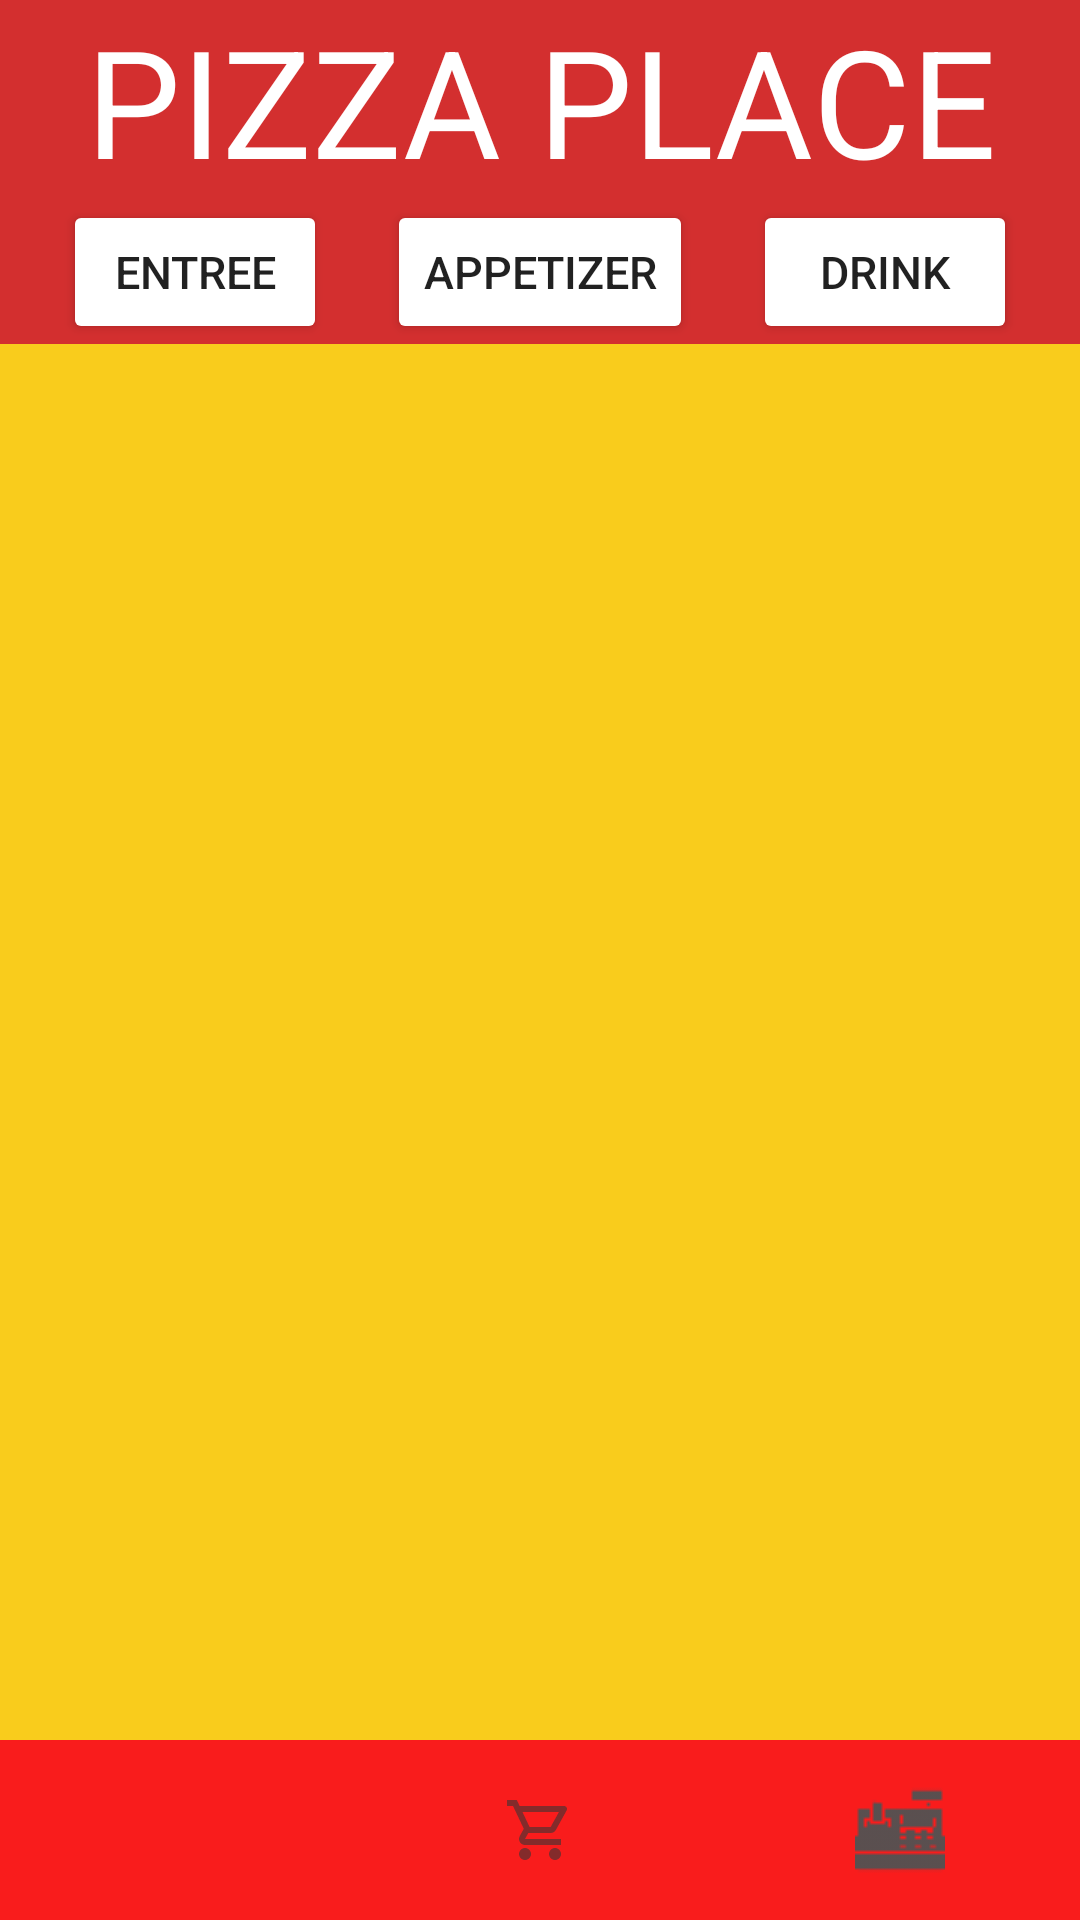

Icons on this 1080px×1920px Android screen, each with the point to tap as (x=x, y=y):
cashiermachine: (x=900, y=1830)
shoppingcart: (x=537, y=1830)
